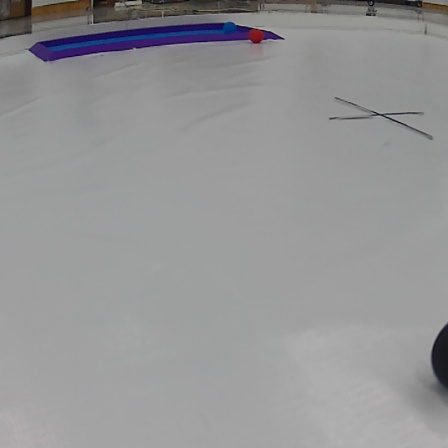blue: (221, 20, 238, 38)
blue_aim: (22, 20, 291, 62)
red: (247, 28, 268, 45)
